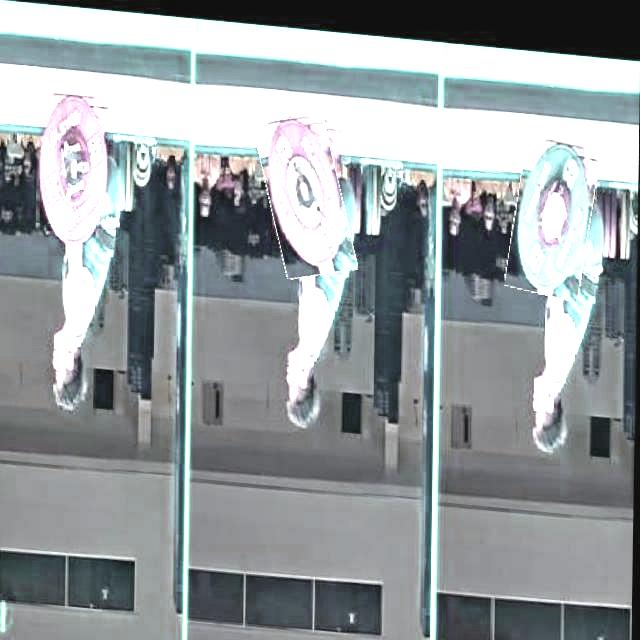barbell: (260, 106, 352, 276), (510, 123, 597, 290)
